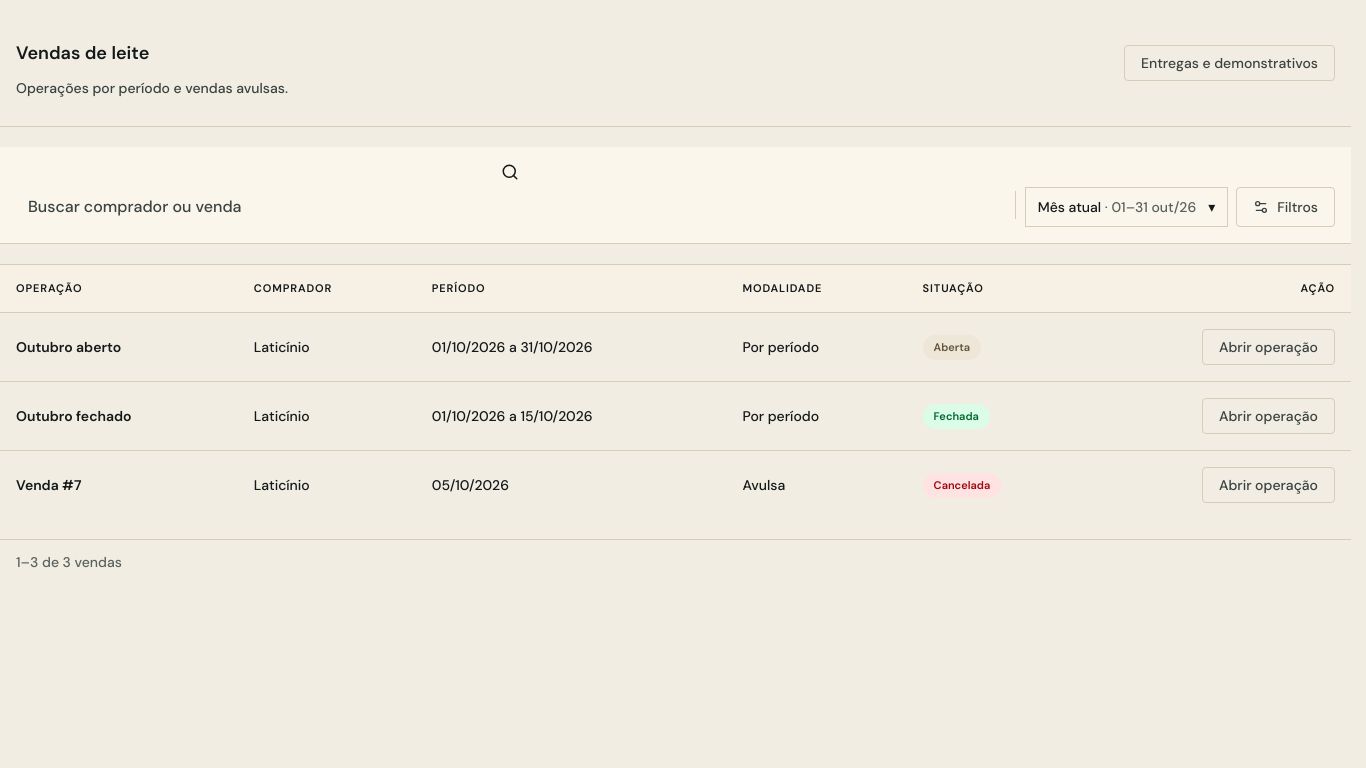
reúne períodos abertos, fechados e avulsa cancelada sem consultar dinheiro
expect the text "Outubro fechado" is shown: met, box [16, 408, 132, 426]
expect the text "Venda #7" is shown: met, box [16, 476, 81, 494]
Click the button "Abrir operação" in the row of "Venda #7" at (1268, 486), box [1202, 468, 1335, 504]
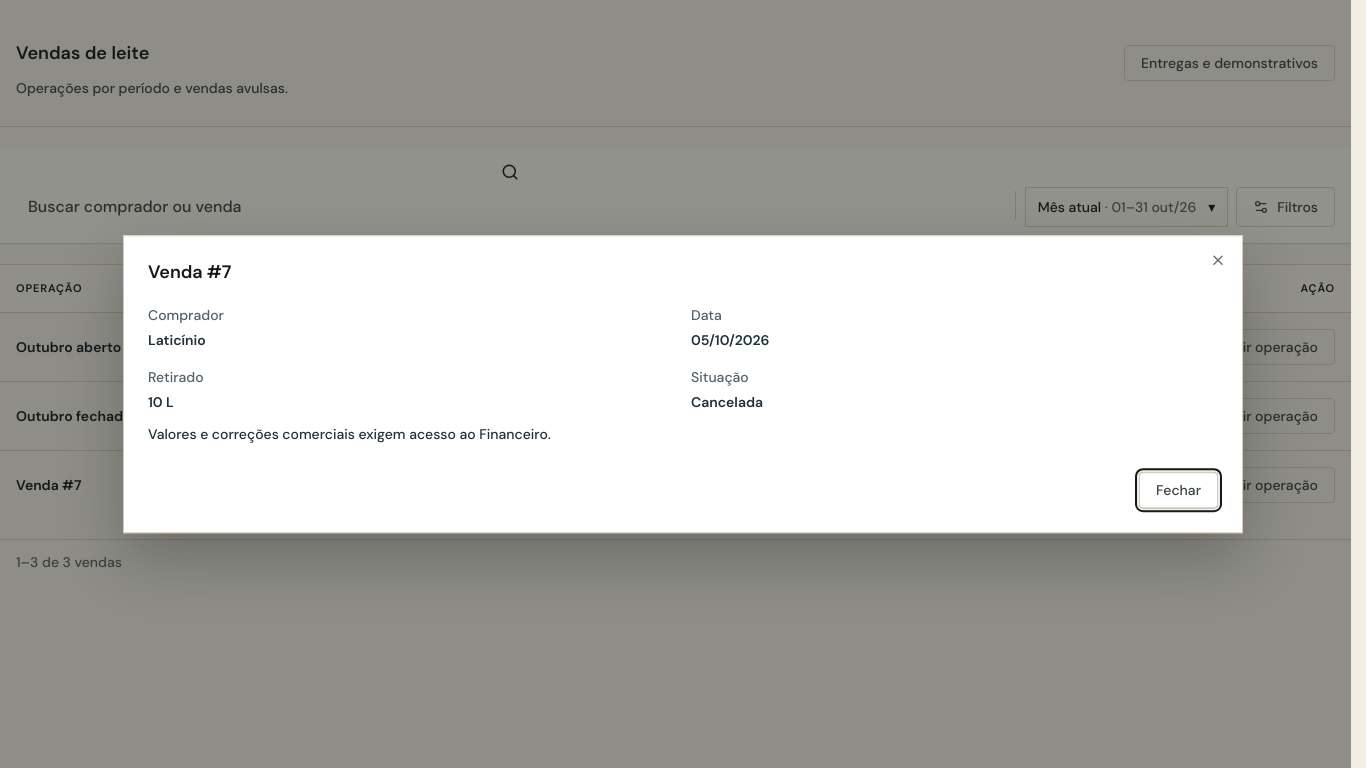
expect the text "Valores e correções comerciais exigem acesso ao Financeiro." is shown: met, box [148, 425, 551, 443]
